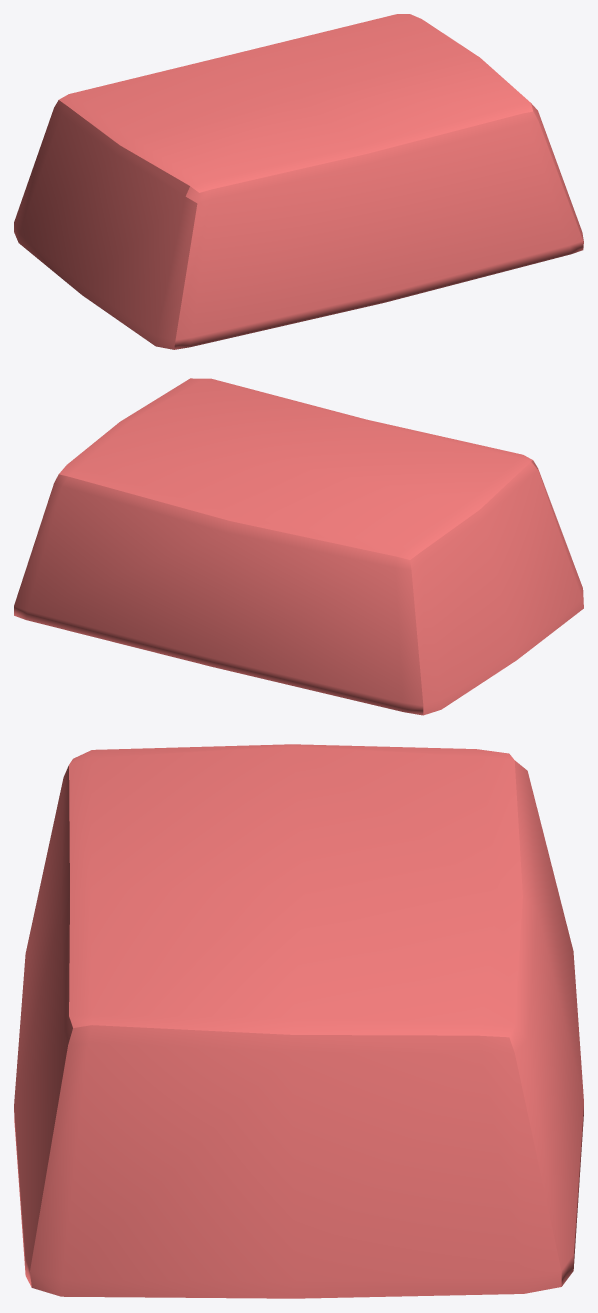
File: Cap.fbx
3 views of the same model, one above another, from view 1: azimuth 30°, elevation 25°; view 2: azimuth 150°, elevation 25°; view 3: azimuth 270°, elevation 25° (orthographic). The views are drawn at different scales.
Visible parts, largest first — view 1: Ctrl Cap; view 2: Ctrl Cap; view 3: Ctrl Cap.
Part boxes in pixels (x1,y1,x2,y2): Ctrl Cap: (14,14,583,349); Ctrl Cap: (14,378,583,715); Ctrl Cap: (14,744,583,1298).
Bounding box in the file's own units: 0.6156 × 0.1976 × 0.4227.
